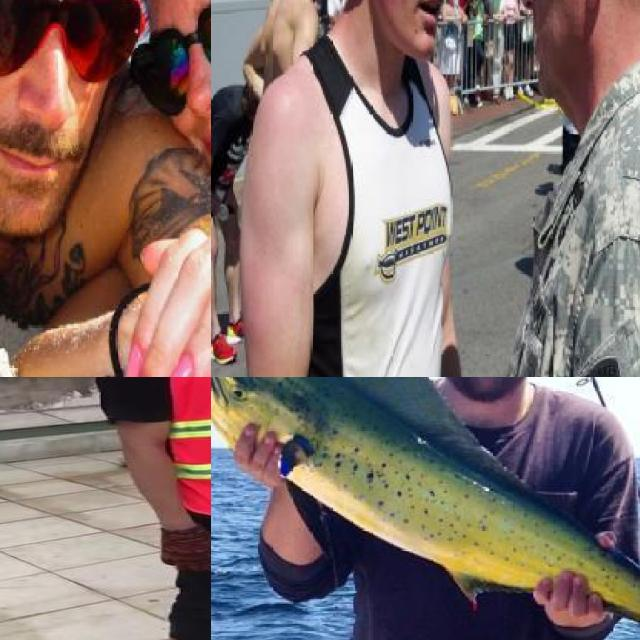face_nomask: (0, 0, 128, 189), (130, 0, 211, 160), (511, 0, 565, 83), (394, 0, 467, 42)
glasses: (0, 0, 149, 92), (125, 0, 211, 117)
hand_glove: (159, 526, 211, 576)
hand_noglove: (118, 175, 211, 377), (531, 560, 615, 632), (228, 415, 293, 480)
person: (230, 377, 640, 640), (241, 0, 484, 377), (495, 0, 640, 377), (86, 377, 211, 640)
